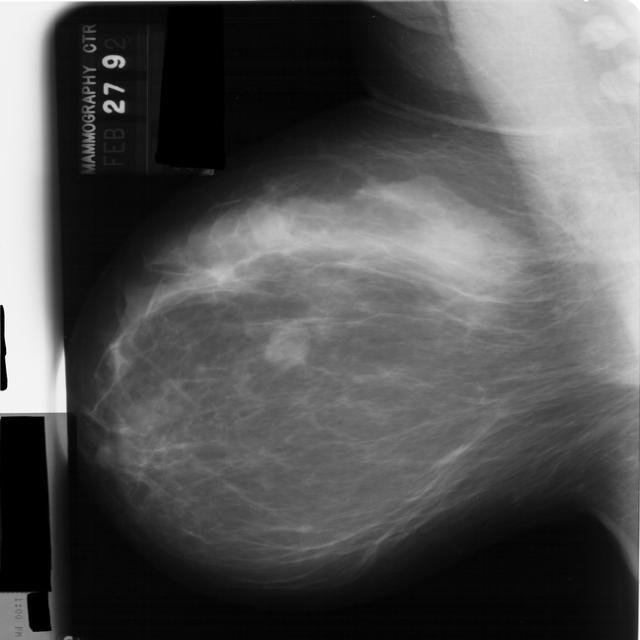tumour: (263, 319, 309, 367)
